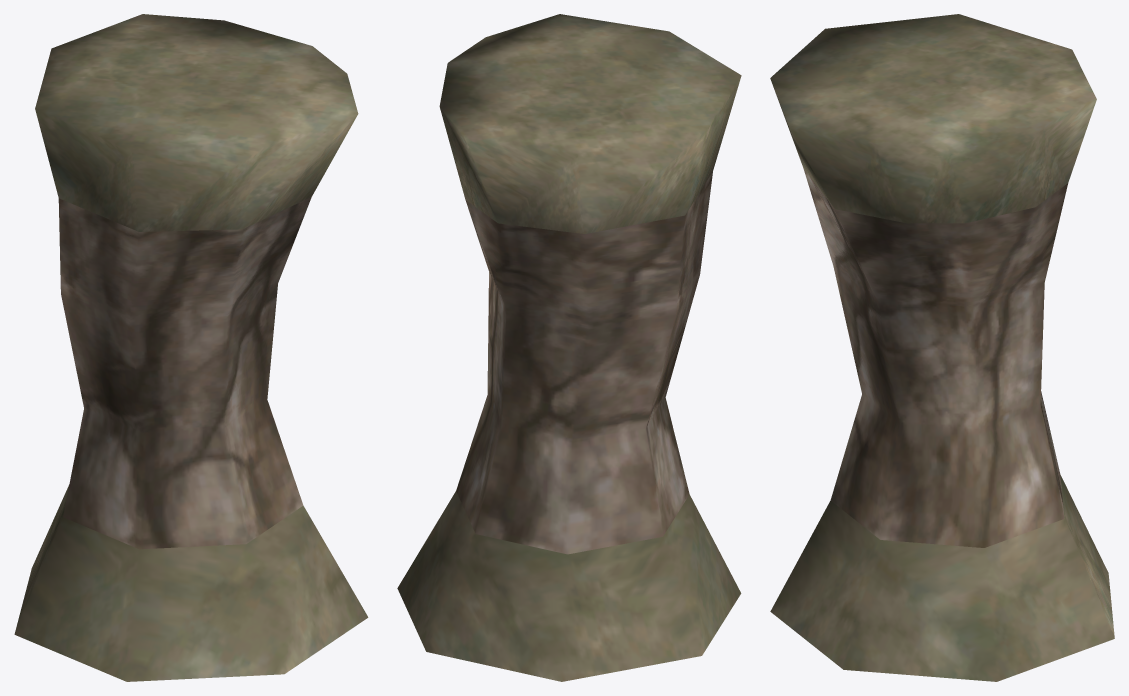
The model's file is EKH_CAVERNS_PS_CA_PLAT49484__GX.fbx.
The picture shows the model from 3 angles, left to right: view 1: azimuth 30°, elevation 25°; view 2: azimuth 150°, elevation 25°; view 3: azimuth 270°, elevation 25°; orthographic projection. The views are drawn at different scales.
Visible parts, largest first — view 1: EKH_CAVERNS_PS_CA_PLAT49484__GX; view 2: EKH_CAVERNS_PS_CA_PLAT49484__GX; view 3: EKH_CAVERNS_PS_CA_PLAT49484__GX.
Part boxes in pixels (box(x1,y1,x2,y2)): EKH_CAVERNS_PS_CA_PLAT49484__GX: box(14, 14, 368, 681); EKH_CAVERNS_PS_CA_PLAT49484__GX: box(397, 14, 741, 681); EKH_CAVERNS_PS_CA_PLAT49484__GX: box(770, 14, 1114, 681).
Bounding box in the file's own units: 19584 × 32587 × 19276.
Materials: 2 (2 with a texture image).
